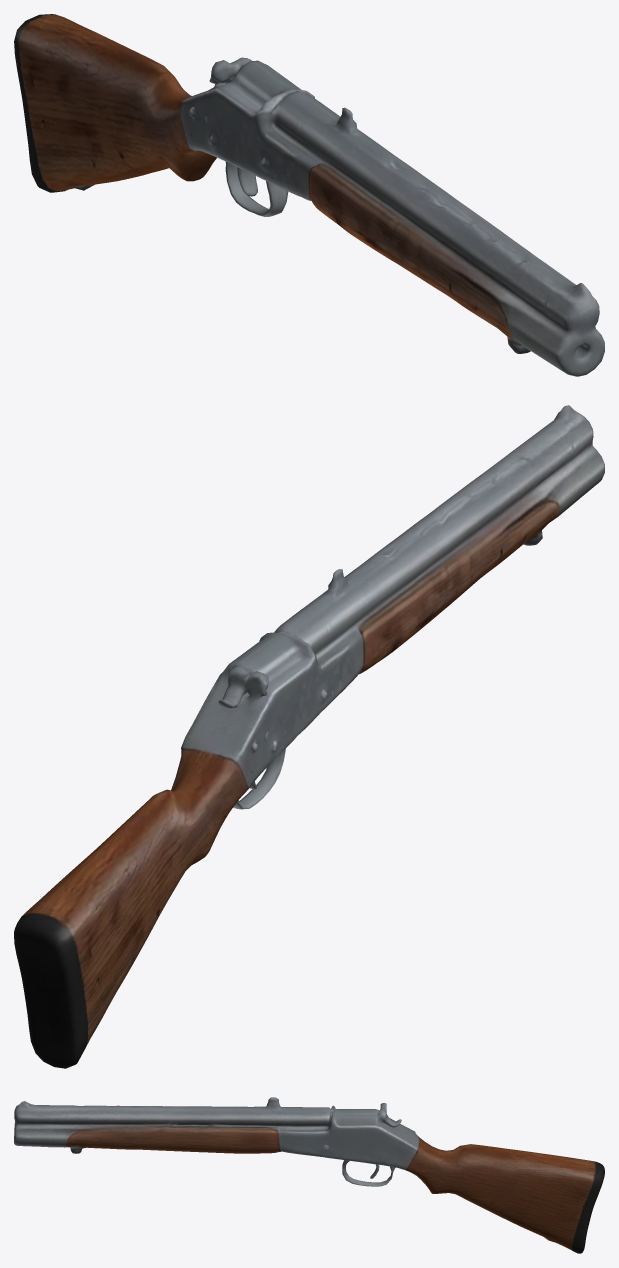
The model's file is w_shotgun.glb.
3 views of the same model, one above another, from view 1: azimuth 30°, elevation 25°; view 2: azimuth 150°, elevation 25°; view 3: azimuth 270°, elevation 25° (orthographic). The views are drawn at different scales.
Parts seen in each view (by area): view 1: model; view 2: model; view 3: model.
Boxes of the visible parts, bbox=[...] form: model: bbox=[14, 14, 604, 376]; model: bbox=[14, 405, 604, 1068]; model: bbox=[14, 1097, 604, 1253].
Bounding box in the file's own units: 0.1282 × 0.5526 × 1.9.
Materials: 1 (1 with a texture image).
